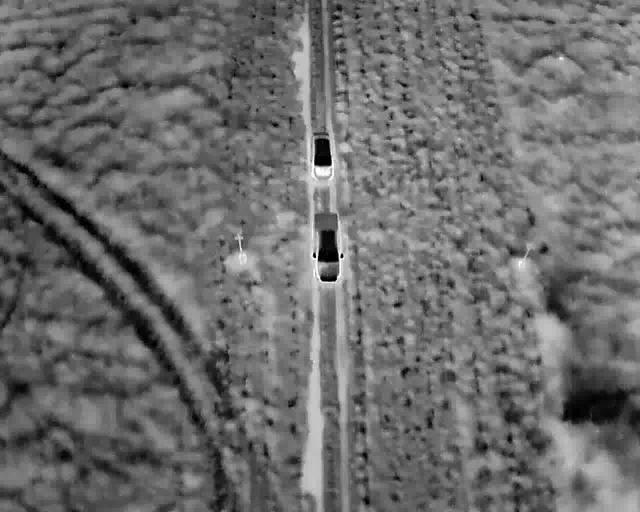car: (310, 210, 344, 283), (310, 130, 335, 182)
